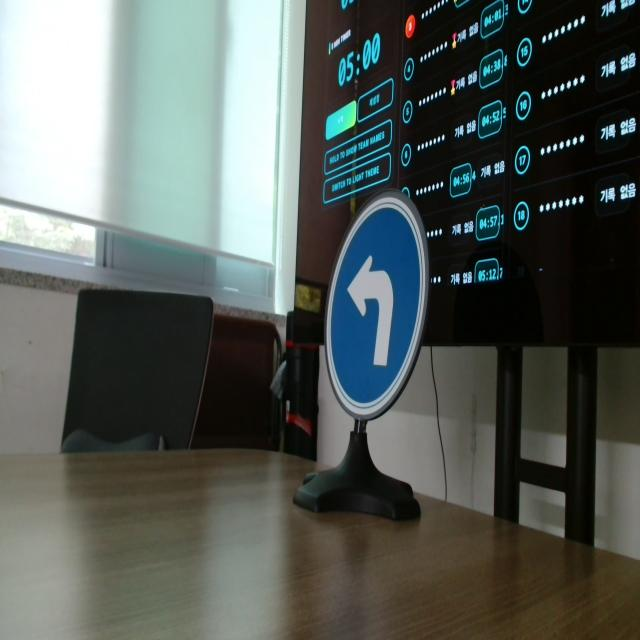left_direction: (321, 185, 431, 412)
